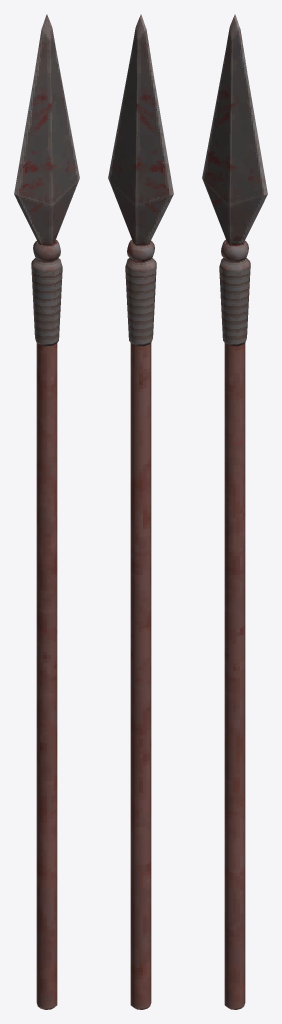
File: item_butcherspear.glb
3 views of the same model, side by side, from view 1: azimuth 30°, elevation 25°; view 2: azimuth 150°, elevation 25°; view 3: azimuth 330°, elevation 25° (orthographic).
Parts seen in each view (by area): view 1: ButcherSpear; view 2: ButcherSpear; view 3: ButcherSpear.
Boxes of the visible parts, <box> form: ButcherSpear: <box>14,14,79,1009</box>; ButcherSpear: <box>108,14,173,1009</box>; ButcherSpear: <box>202,14,267,1009</box>.
Size of the model in its own units: 0.1037 by 1.49 by 0.0445.
1 material, 1 textured.
